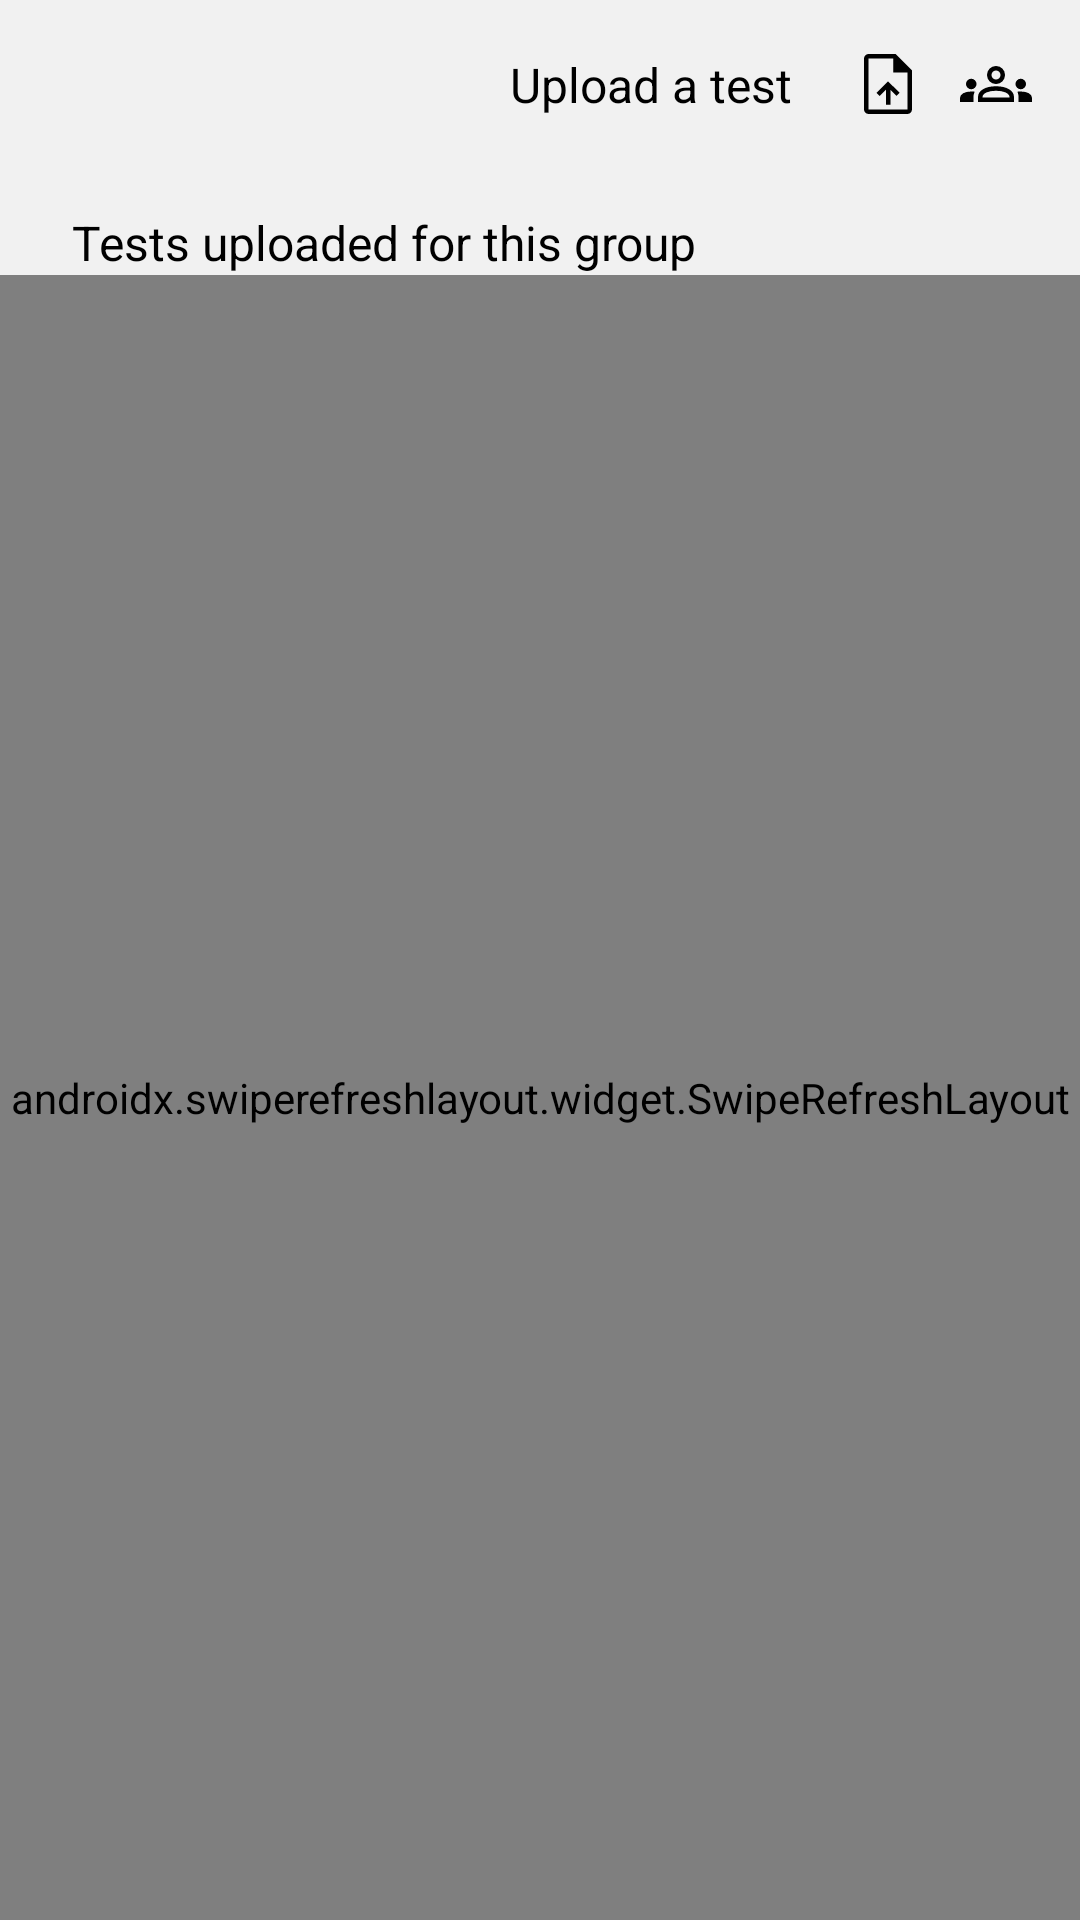

Icon bounding boxes for this 1080px×1920px phone screenshot, format [x1=x1, y1=y1, x2=x2, y2=y2]:
upload file: [x1=864, y1=54, x2=912, y2=114]
